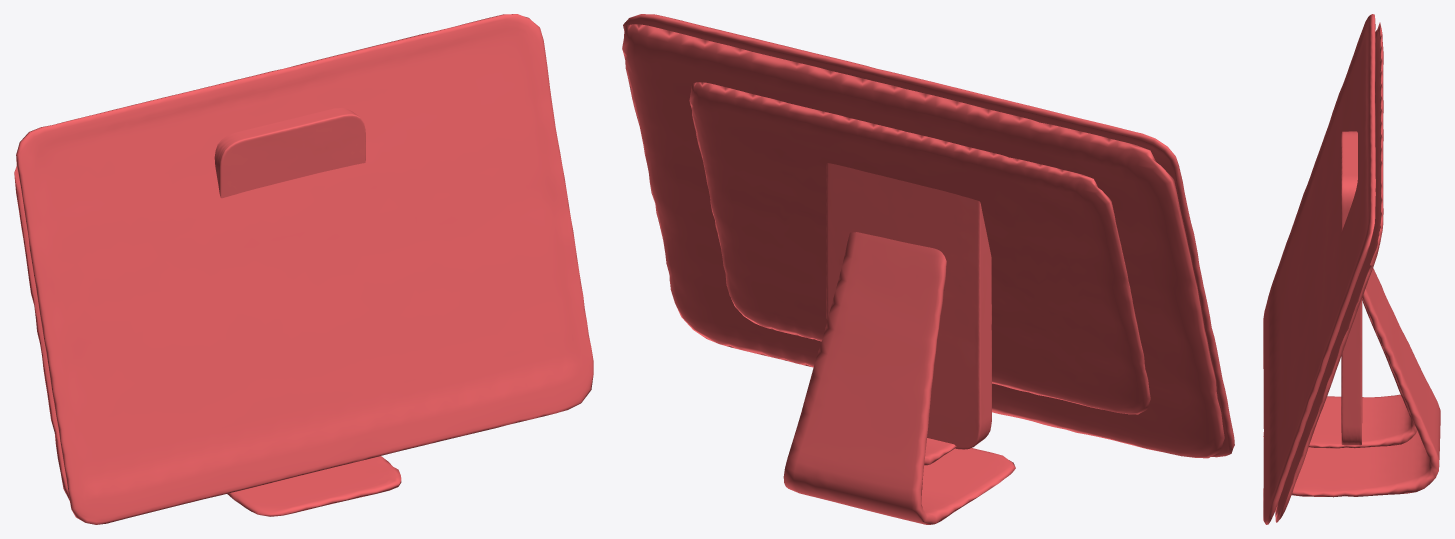
The model's file is desktop.glb.
3 views of the same model, side by side, from view 1: azimuth 30°, elevation 25°; view 2: azimuth 150°, elevation 25°; view 3: azimuth 270°, elevation 25° (orthographic). The views are drawn at different scales.
Visible parts, largest first — view 1: Mesh1.001, Mesh1; view 2: Mesh1.001, Mesh1.002, Mesh1; view 3: Mesh1.001, Mesh1.002, Mesh1.
Boxes of the visible parts, x1,y1,x2,y2 form: Mesh1.001: (14, 14, 593, 524); Mesh1: (214, 108, 365, 198); Mesh1.001: (622, 14, 1234, 524); Mesh1.002: (689, 82, 1150, 465); Mesh1: (826, 163, 991, 449); Mesh1.001: (1263, 14, 1440, 524); Mesh1.002: (1309, 298, 1417, 448); Mesh1: (1341, 131, 1362, 445).
Size of the model in its own units: 2.62 by 1.88 by 0.8756.
